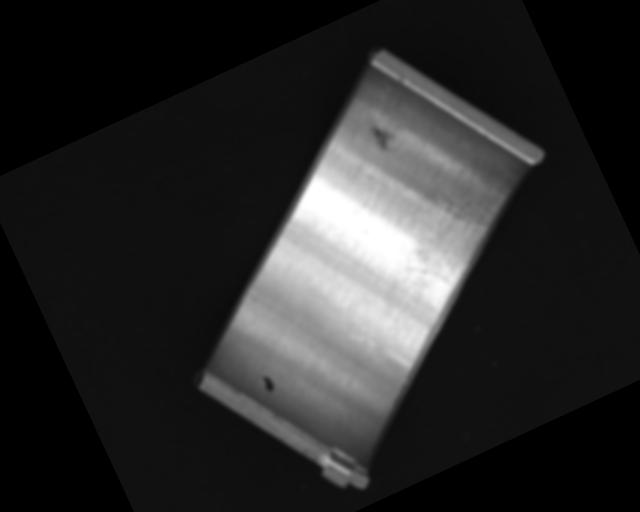blot: (260, 372, 277, 394)
bruise: (368, 121, 398, 156)
nick: (341, 300, 415, 386)
scratch: (365, 169, 534, 319)
